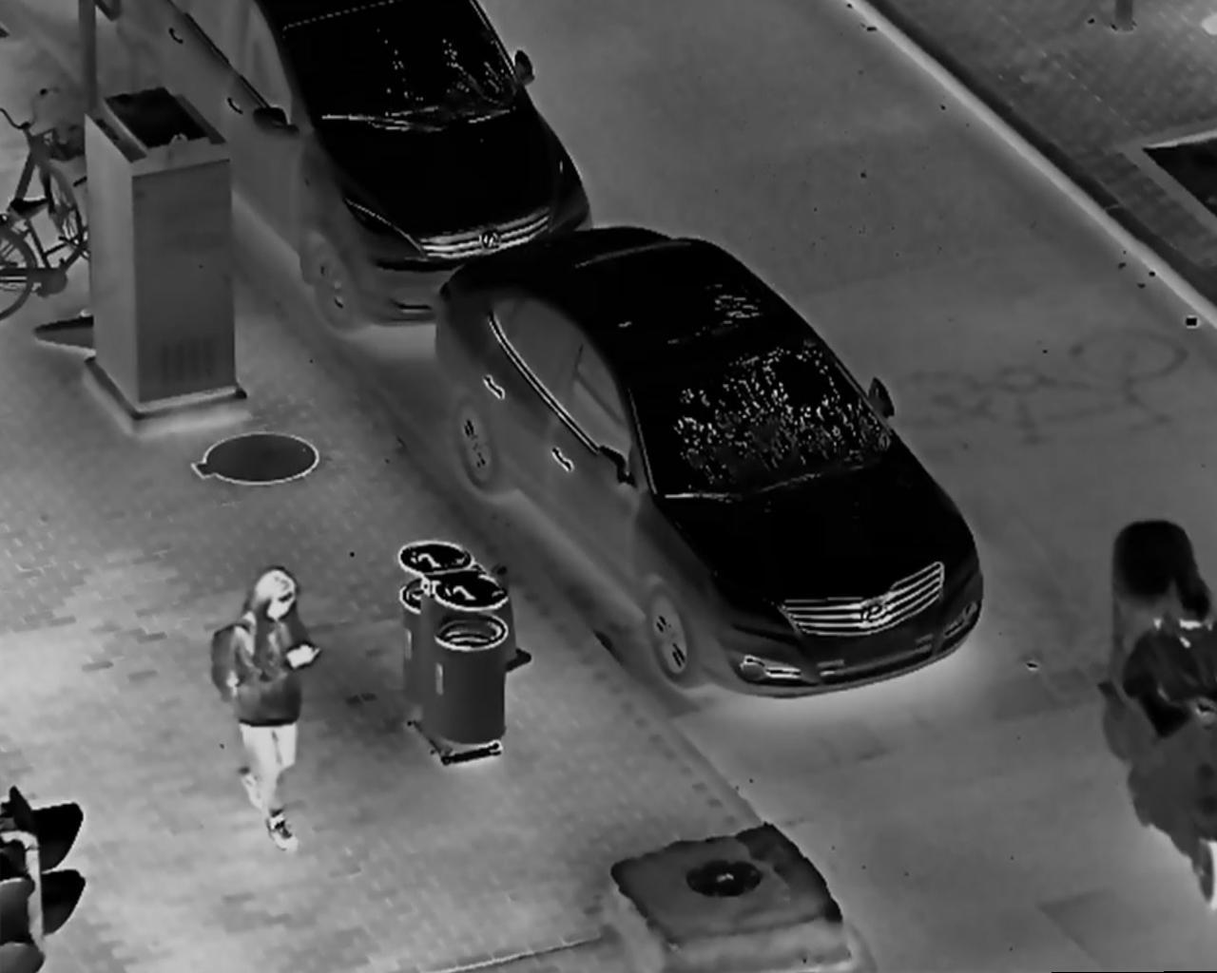person: (207, 563, 326, 853), (1124, 576, 1217, 818)
